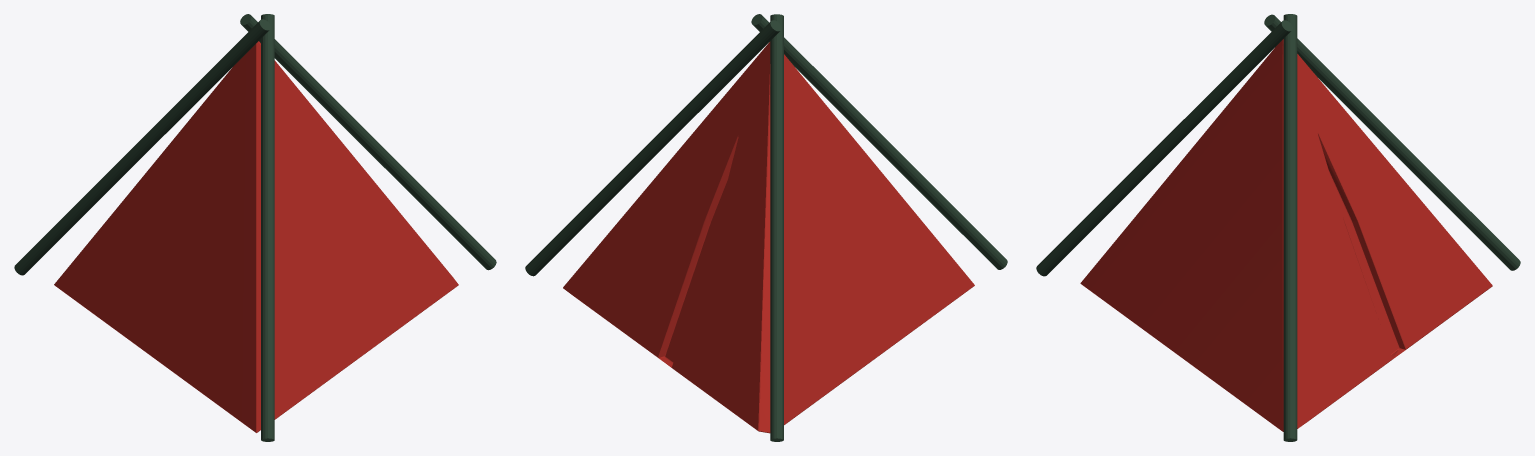
File: Tent2.obj
3 views of the same model, side by side, from view 1: azimuth 30°, elevation 25°; view 2: azimuth 150°, elevation 25°; view 3: azimuth 270°, elevation 25° (orthographic).
Parts seen in each view (by area): view 1: polySurface15 group48_pasted__pCylinder3, group48_pasted__pCylinder3 polySurface11, group48_pasted__pCylinder3 polySurface13, group48_pasted__pCylinder3 polySurface14; view 2: polySurface15 group48_pasted__pCylinder3, group48_pasted__pCylinder3 polySurface13, group48_pasted__pCylinder3 polySurface14, group48_pasted__pCylinder3 polySurface11; view 3: polySurface15 group48_pasted__pCylinder3, group48_pasted__pCylinder3 polySurface14, group48_pasted__pCylinder3 polySurface11, group48_pasted__pCylinder3 polySurface13.
Part boxes in pixels (bbox=[...]): polySurface15 group48_pasted__pCylinder3: bbox=[54, 41, 458, 432]; group48_pasted__pCylinder3 polySurface11: bbox=[261, 14, 274, 441]; group48_pasted__pCylinder3 polySurface13: bbox=[14, 19, 270, 275]; group48_pasted__pCylinder3 polySurface14: bbox=[240, 14, 496, 270]; polySurface15 group48_pasted__pCylinder3: bbox=[563, 41, 974, 433]; group48_pasted__pCylinder3 polySurface13: bbox=[770, 14, 783, 441]; group48_pasted__pCylinder3 polySurface14: bbox=[525, 20, 781, 276]; group48_pasted__pCylinder3 polySurface11: bbox=[751, 14, 1007, 269]; polySurface15 group48_pasted__pCylinder3: bbox=[1080, 39, 1492, 431]; group48_pasted__pCylinder3 polySurface14: bbox=[1283, 14, 1297, 441]; group48_pasted__pCylinder3 polySurface11: bbox=[1036, 20, 1292, 276]; group48_pasted__pCylinder3 polySurface13: bbox=[1264, 14, 1520, 270].
Bounding box in the file's own units: 12.71 × 10.47 × 14.46.
